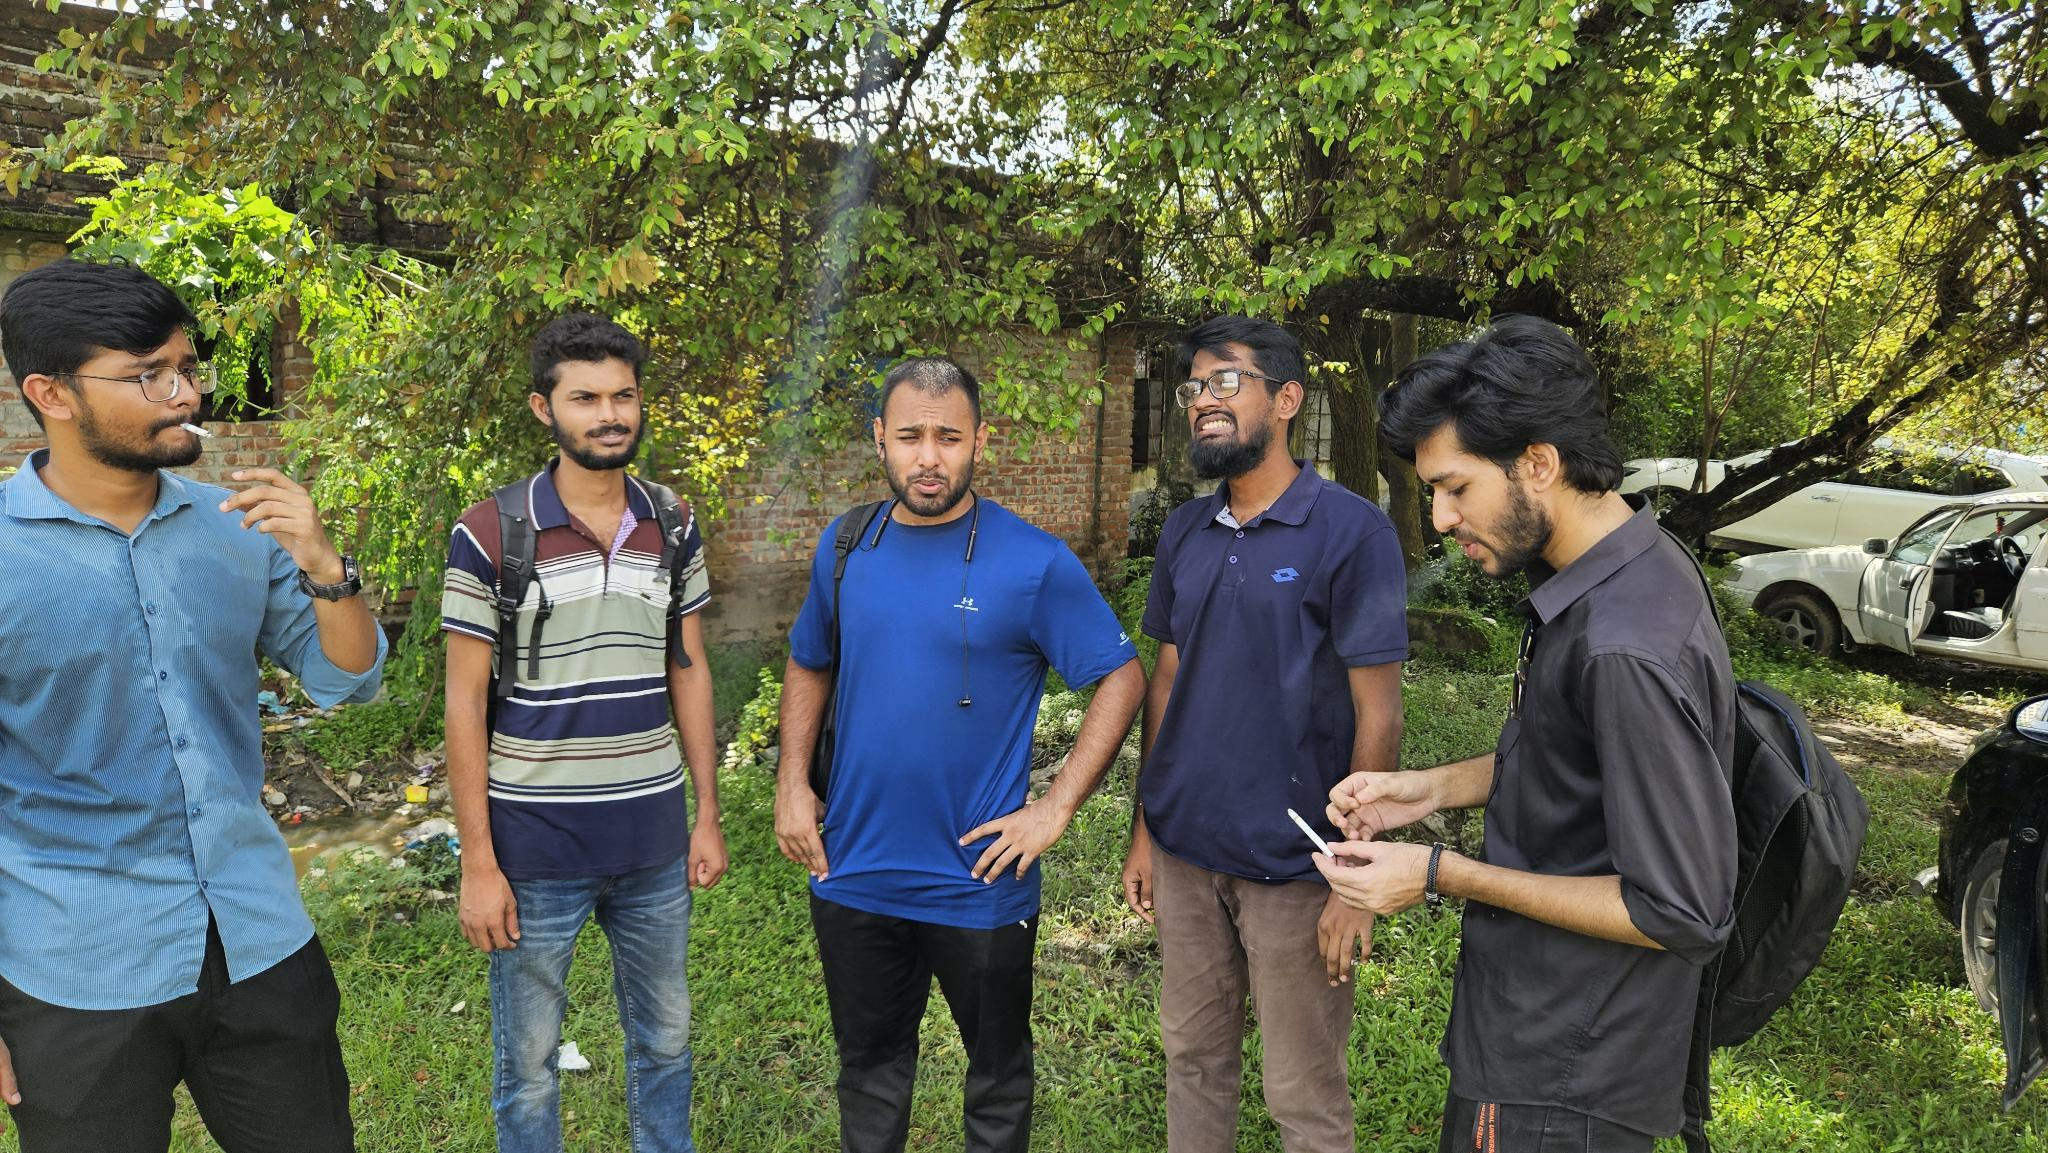cigarette: (1286, 806, 1336, 861), (179, 420, 214, 440)
nonSmoker: (768, 354, 1146, 1153), (447, 312, 731, 1153), (1122, 314, 1407, 1153)
smoker: (1310, 315, 1862, 1153), (1, 259, 390, 1153)
